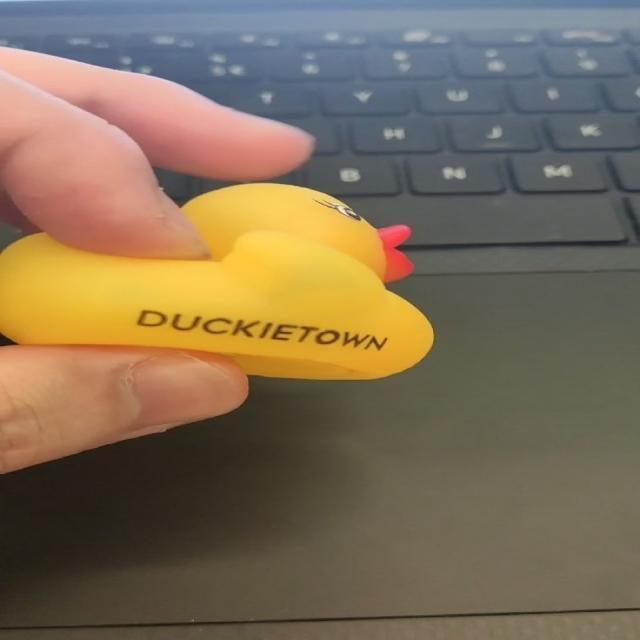rubber-duck: (0, 182, 431, 377)
